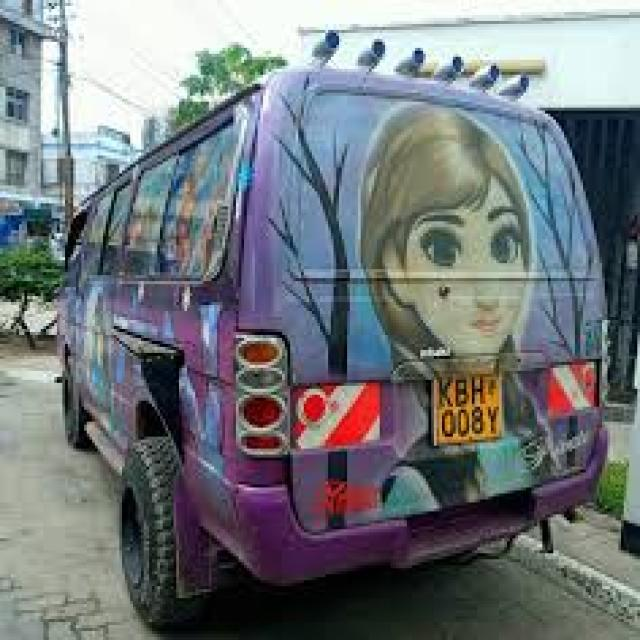matatu: (27, 26, 626, 640)
